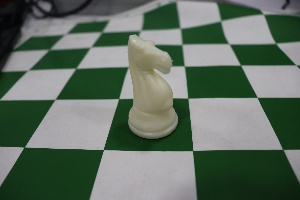white_horse: (113, 19, 185, 150)
